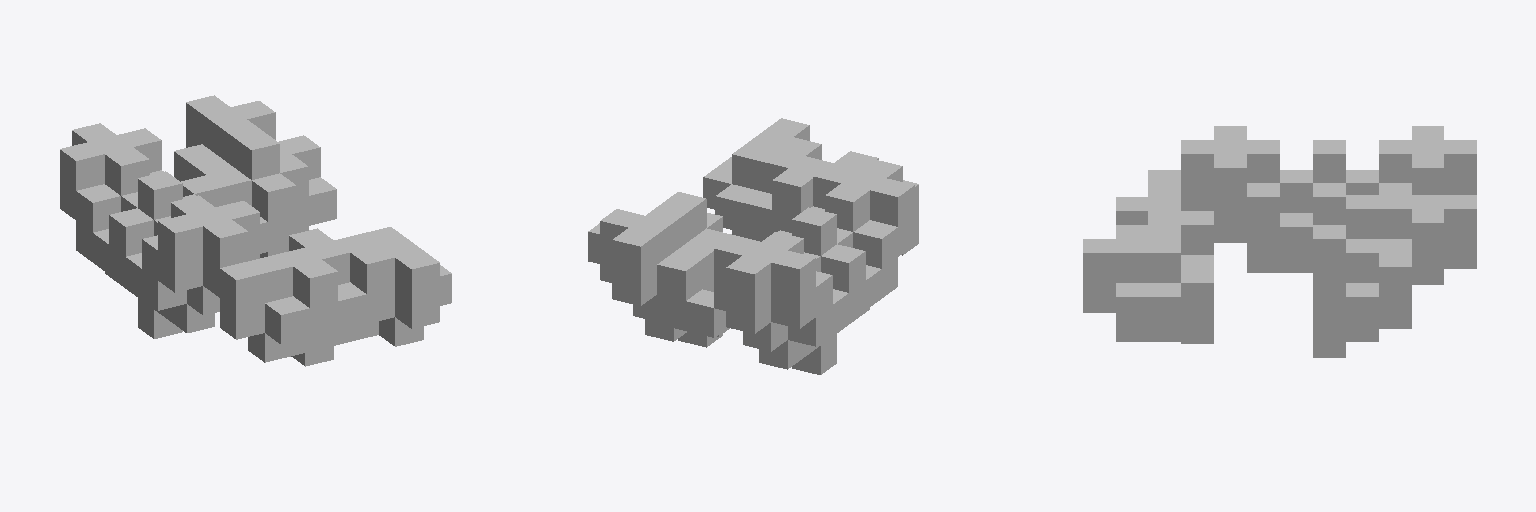
Rendered from Water_plants_x3.obj.
3 views of the same model, side by side, from view 1: azimuth 30°, elevation 25°; view 2: azimuth 150°, elevation 25°; view 3: azimuth 270°, elevation 25° (orthographic).
Parts seen in each view (by area): view 1: Water plants x3; view 2: Water plants x3; view 3: Water plants x3.
Part boxes in pixels (x1,y1,x2,y2): Water plants x3: (60, 95, 451, 366); Water plants x3: (588, 118, 918, 374); Water plants x3: (1083, 126, 1476, 357).
Size of the model in its own units: 8 by 5 by 12.